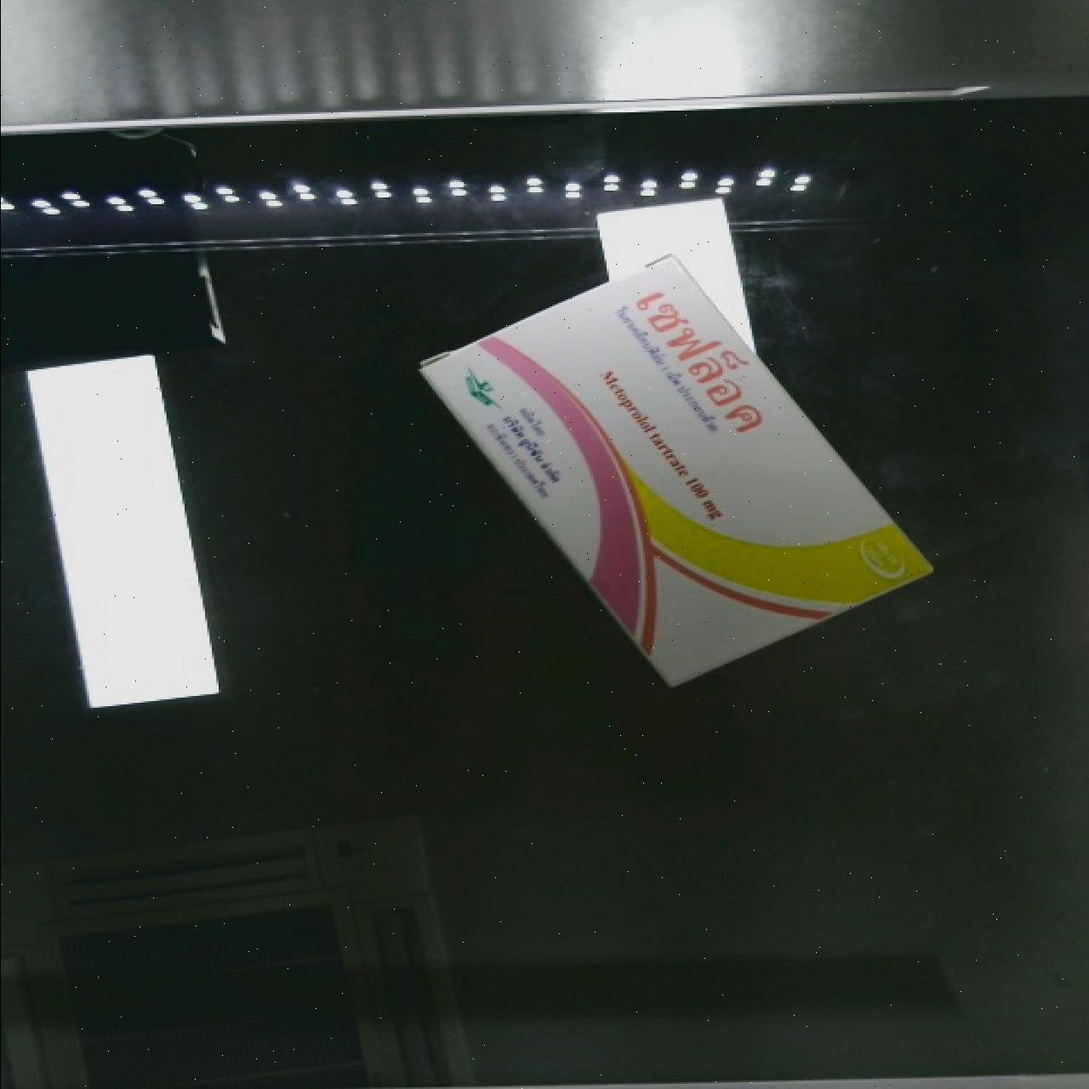medicine_label_obb: (602, 242, 807, 470)
